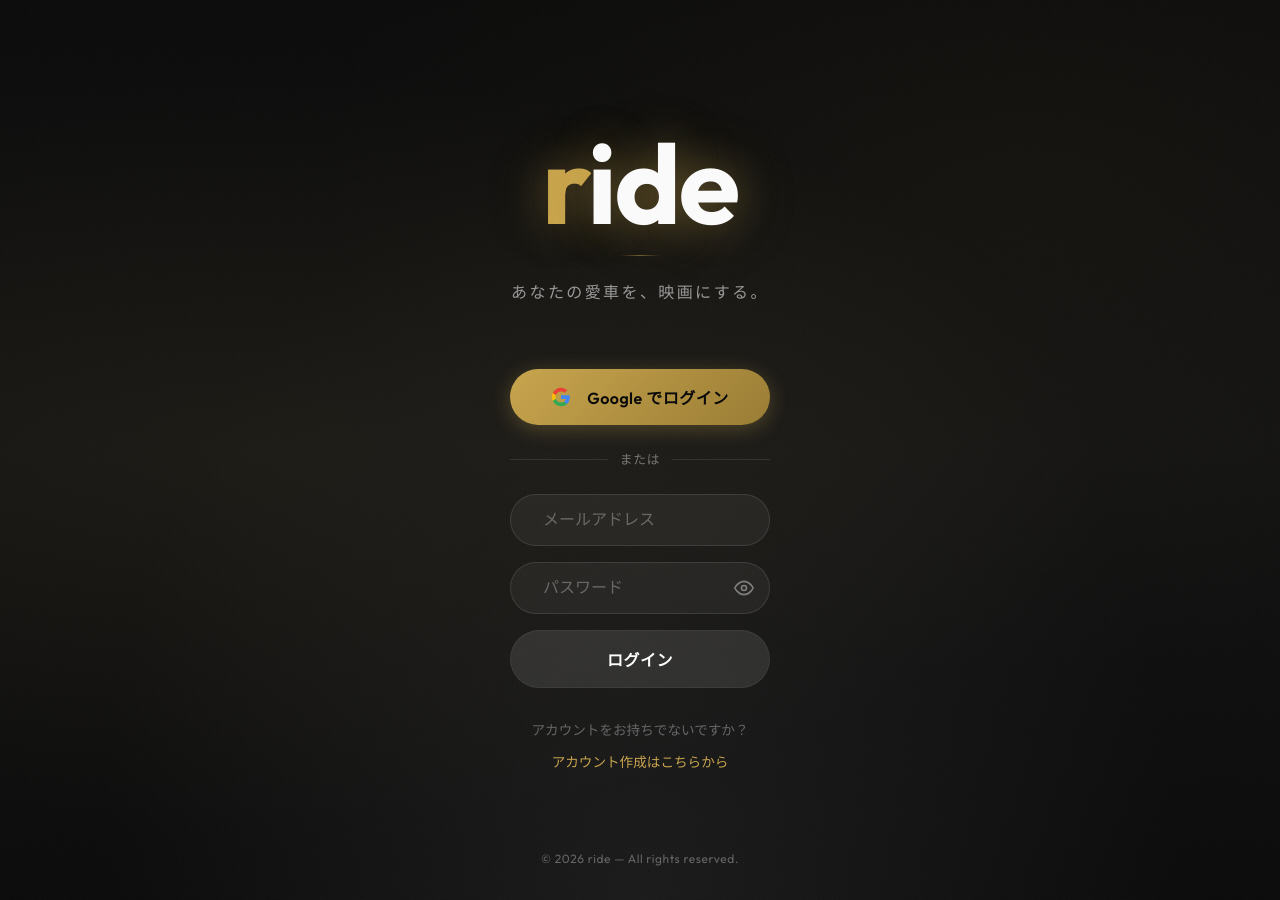
Test: LoginPage › LP-UT-013 Google ログイン例外: 汎用エラーメッセージを表示する
Click the button "Google でログイン": x=640, y=397 top-left (510, 369), bottom-right (770, 425)
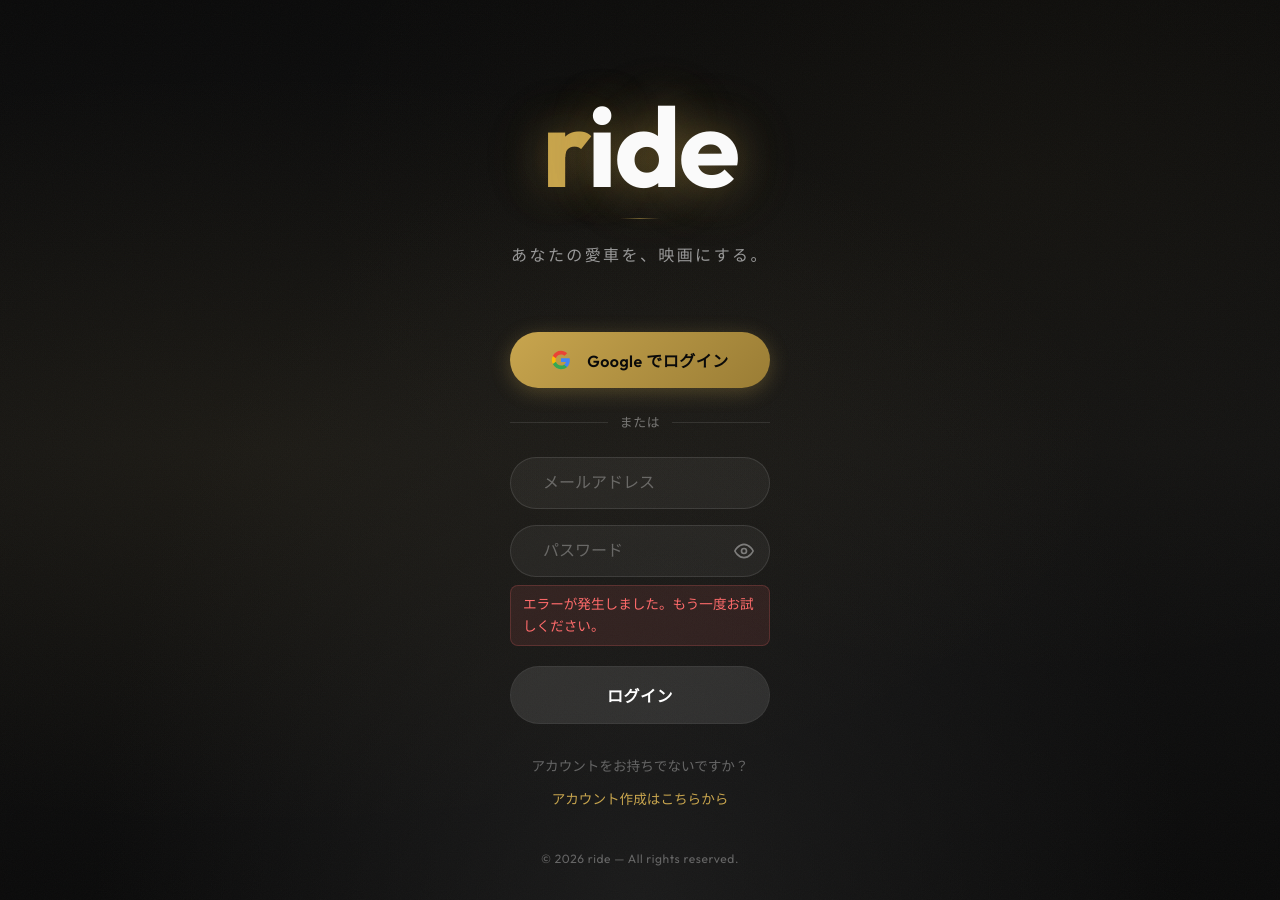
Result: the text "エラーが発生しました。もう一度お試しください。" is shown at top-left (510, 585), bottom-right (770, 646)
